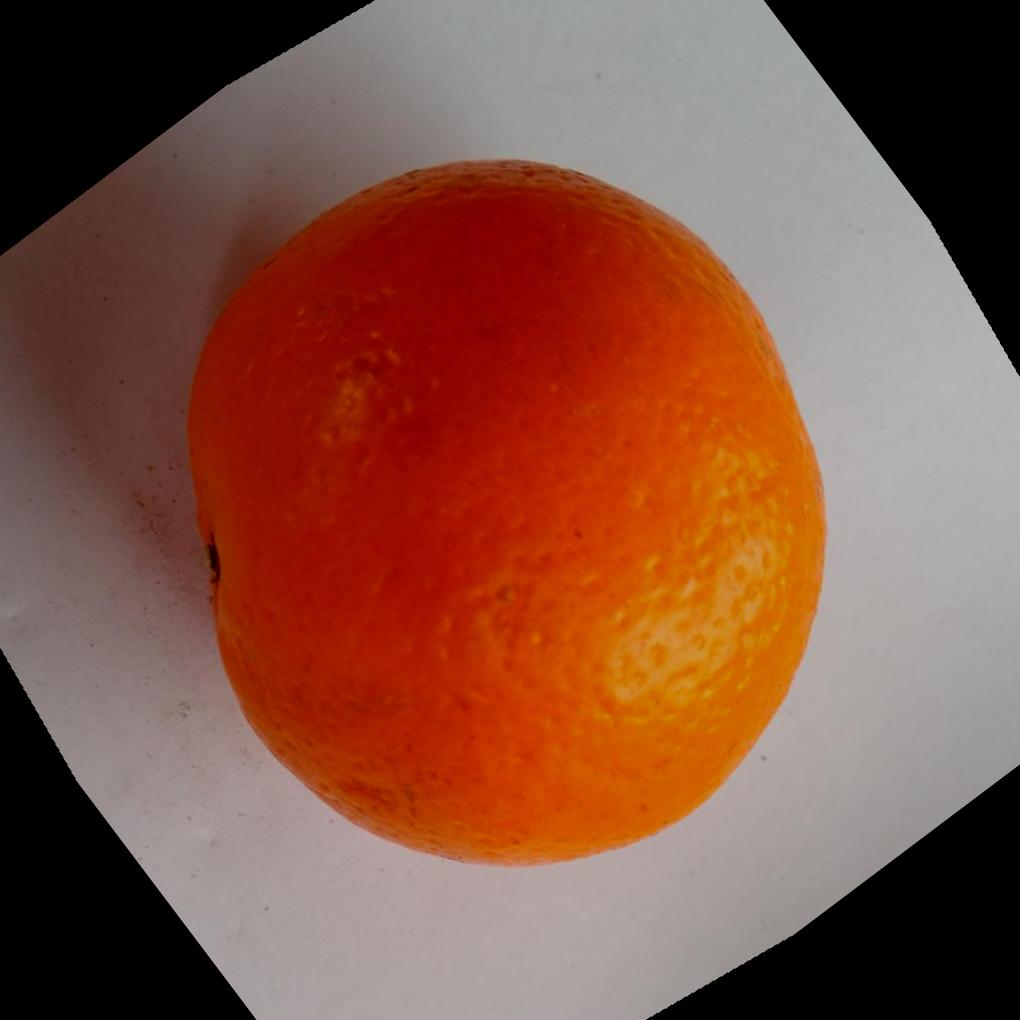FreshGuava: (181, 159, 826, 872)
